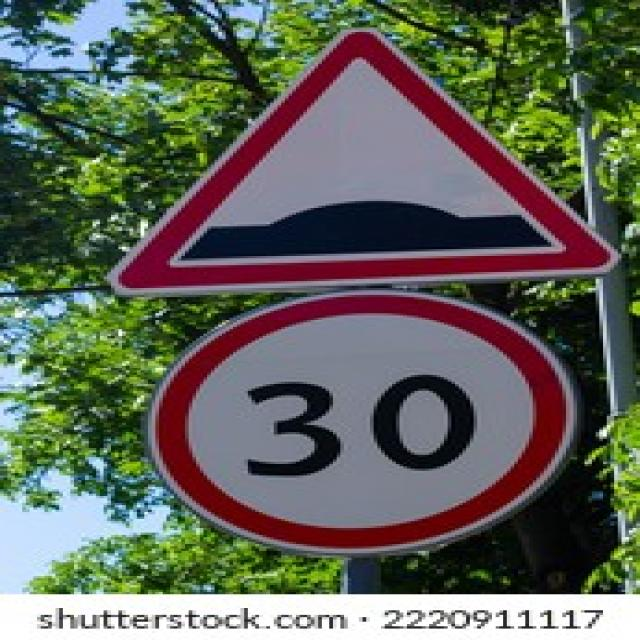Speed Limit -30-: (238, 373, 480, 479)
